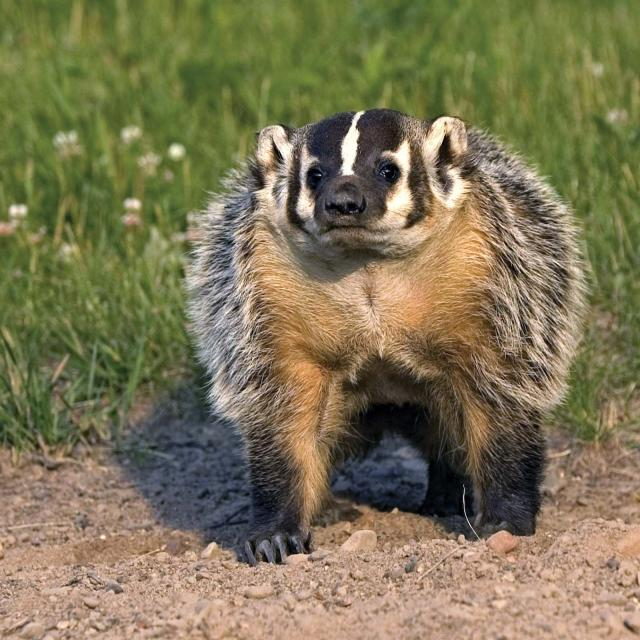Badger: (186, 97, 590, 568)
